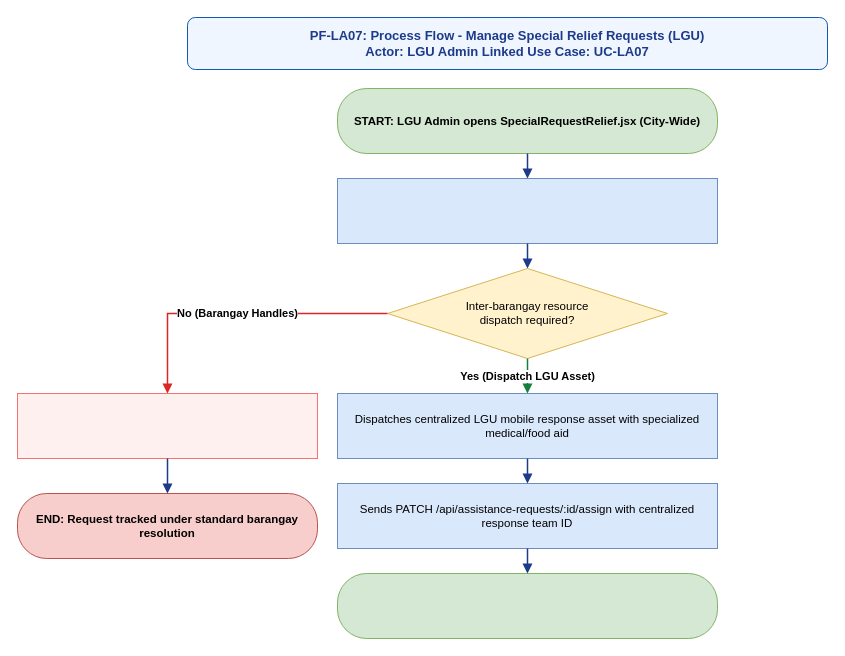
This 845x656 diagram has some shape labels left out. Here are the shapes that lost their labels. From the top down, the centre of each, then its label:
the point at 527,211: Inspects escalated high-urgency citizen assistance tickets across all barangays
the point at 167,425: Monitor local barangay official resolution & follow up on progress
the point at 527,605: END: Centralized emergency assistance delivered successfully
